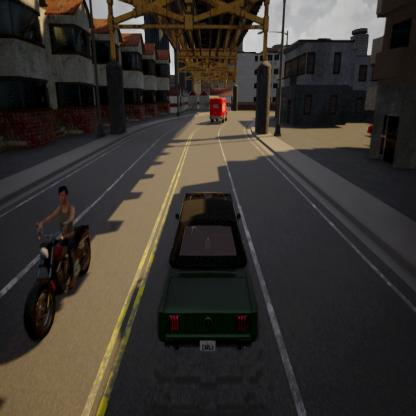Cars: (149, 172, 269, 365), (203, 91, 235, 132)
